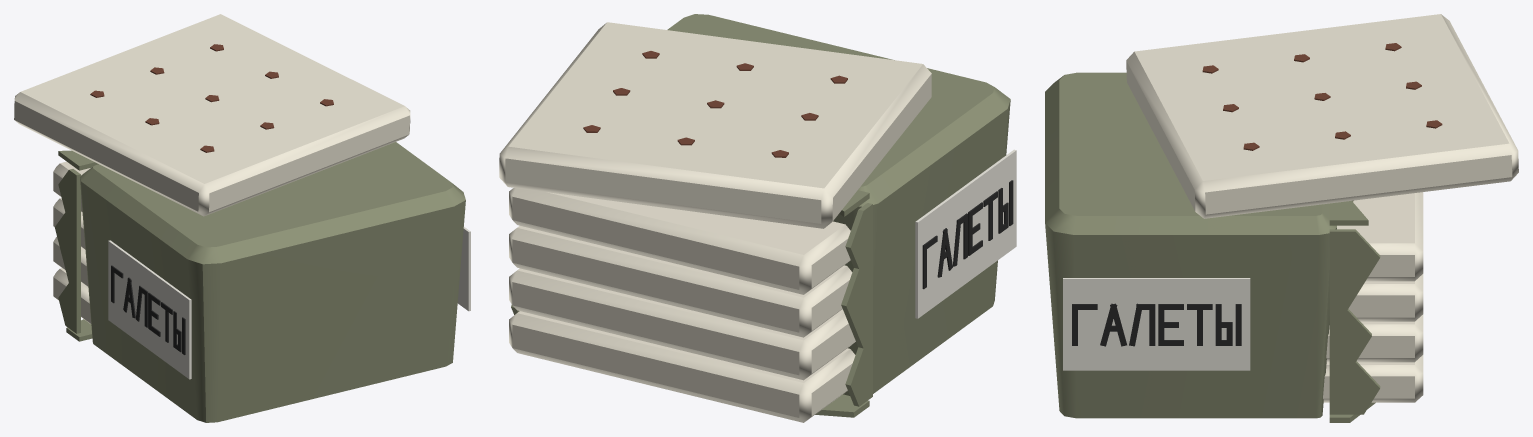
Rendered from crackers.glb.
3 renders of one model, left to right at view 1: azimuth 30°, elevation 25°; view 2: azimuth 150°, elevation 25°; view 3: azimuth 270°, elevation 25°, orthographic. The views are drawn at different scales.
Parts seen in each view (by area): view 1: body; view 2: body; view 3: body.
Part boxes in pixels (x1=…): body: x1=14, y1=14, x2=470, y2=422; body: x1=499, y1=14, x2=1016, y2=422; body: x1=1045, y1=14, x2=1518, y2=422.
Bounding box in the file's own units: 0.1143 × 0.0805 × 0.1381.
